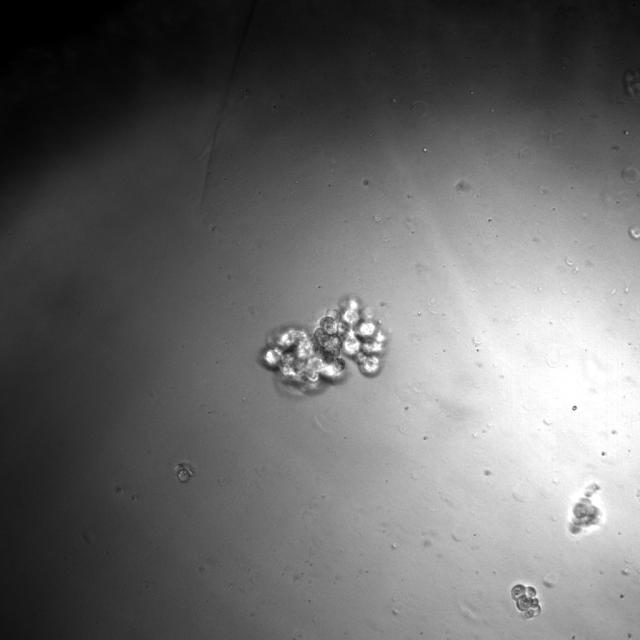organoid: (263, 297, 384, 392), (568, 482, 601, 535), (510, 584, 539, 619), (175, 463, 194, 482)
